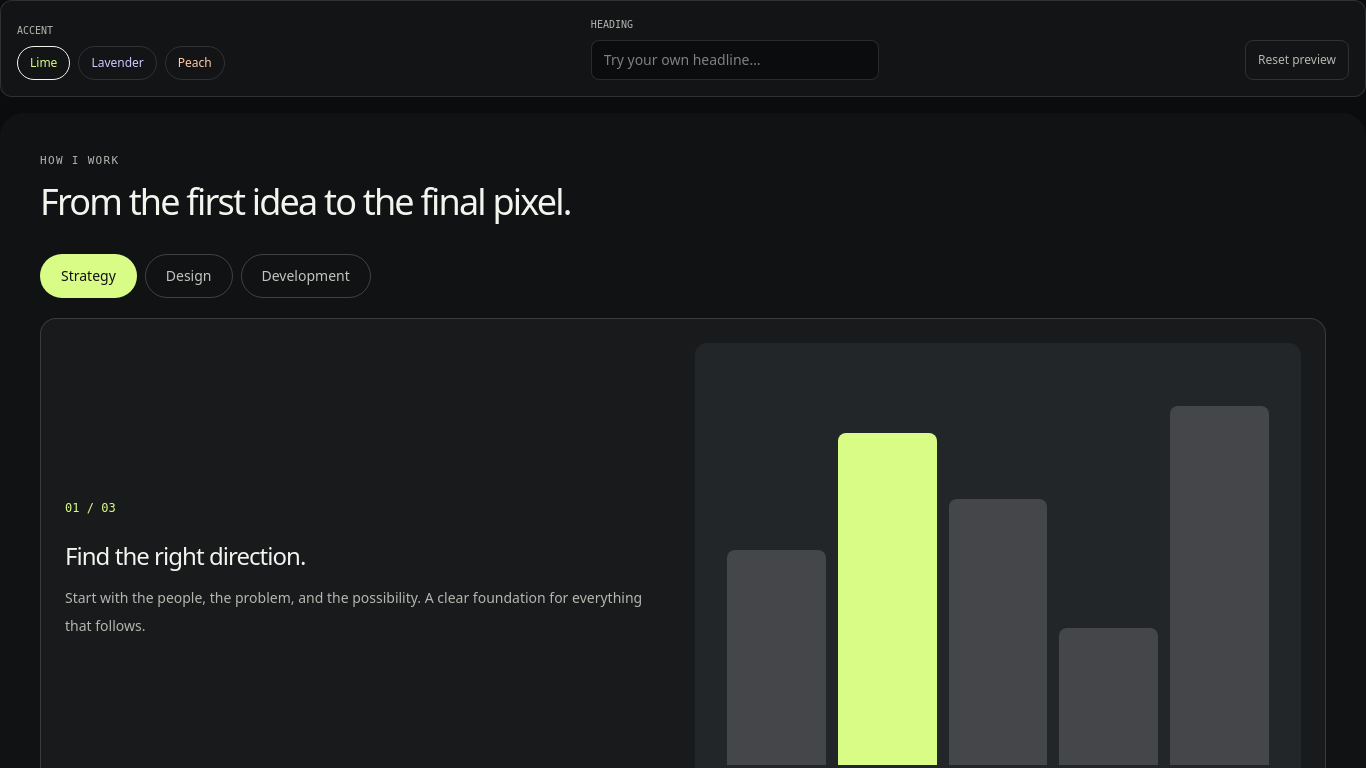
live customization › changes the heading and restores the original block on reset
In the field named "Preview heading": (735, 60) [591,40,879,80], type "My process"
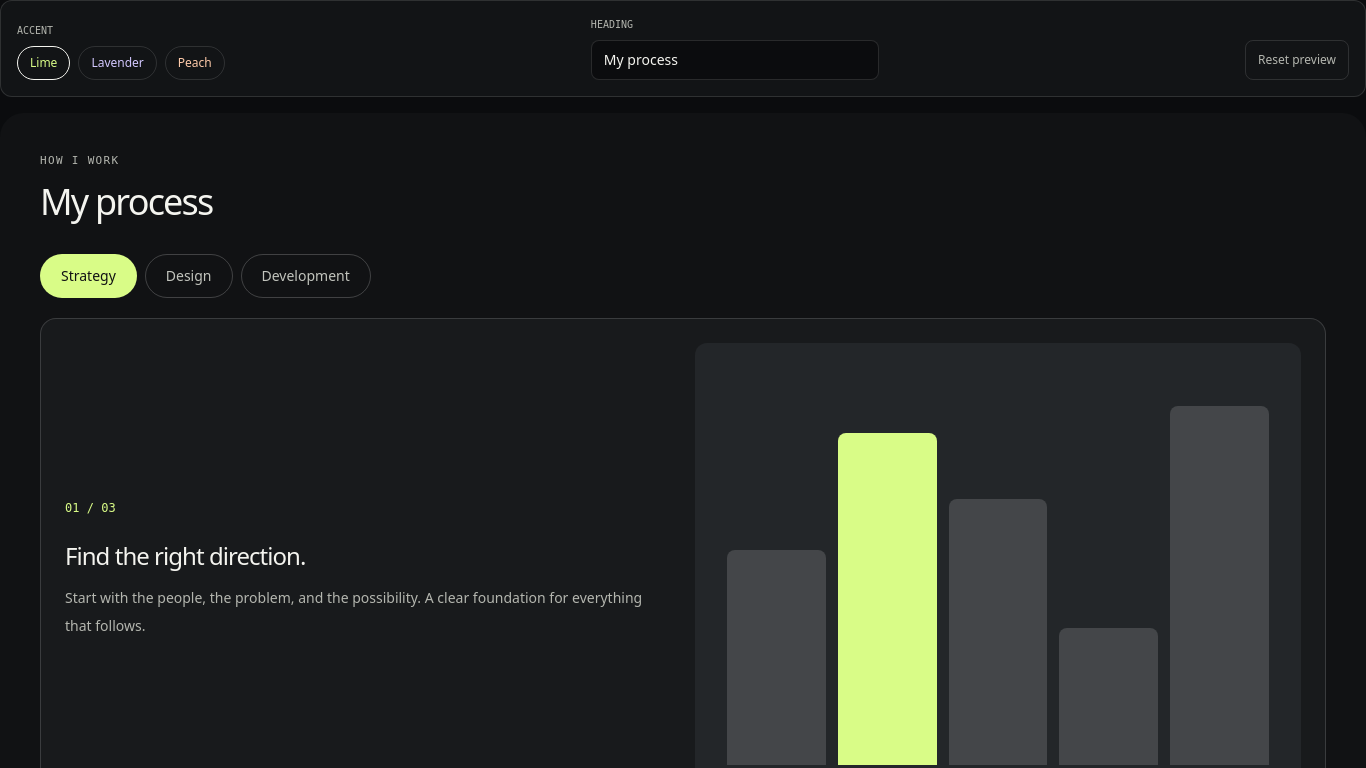
Now the heading "My process" is shown, box [40,176,212,226]
Click the tab "Development": click(306, 276) [240,254,371,298]
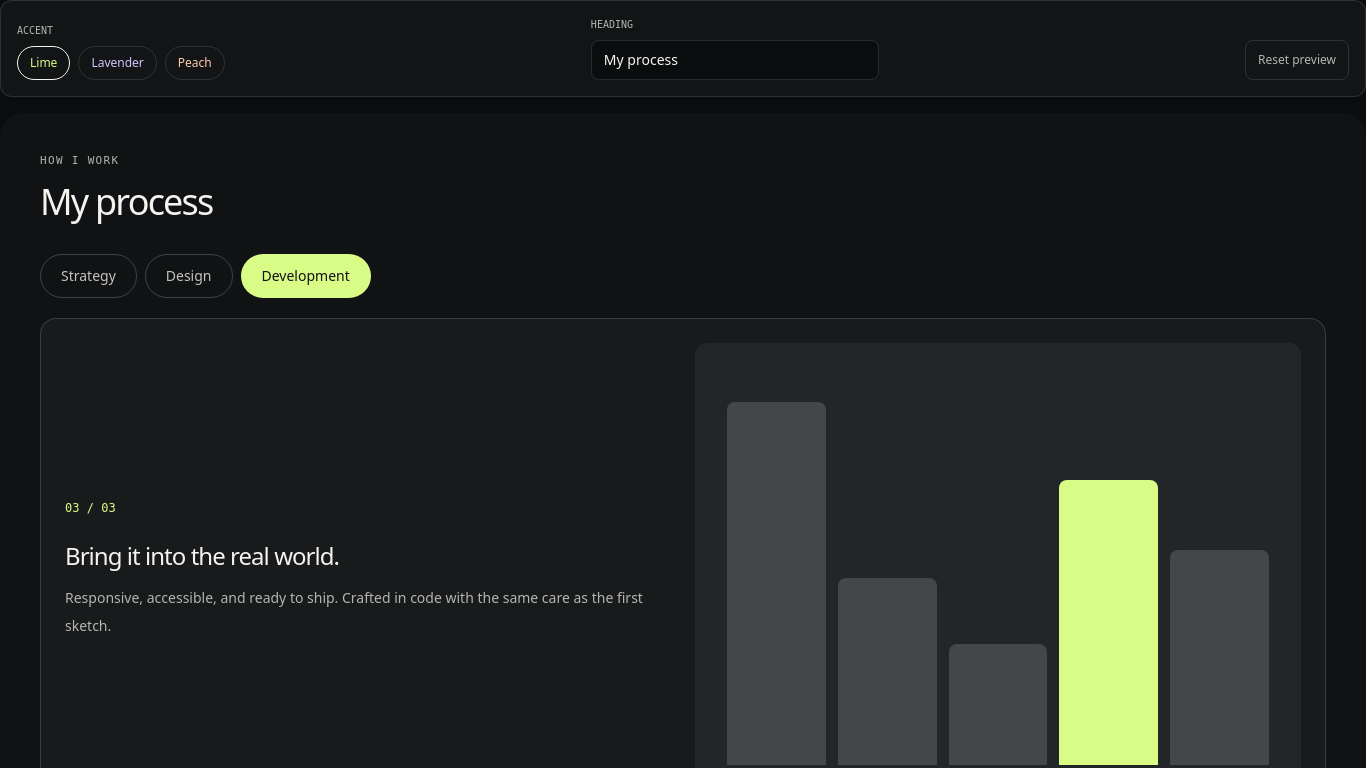
Click the button "Reset preview": click(1297, 60) [1245,40,1349,80]
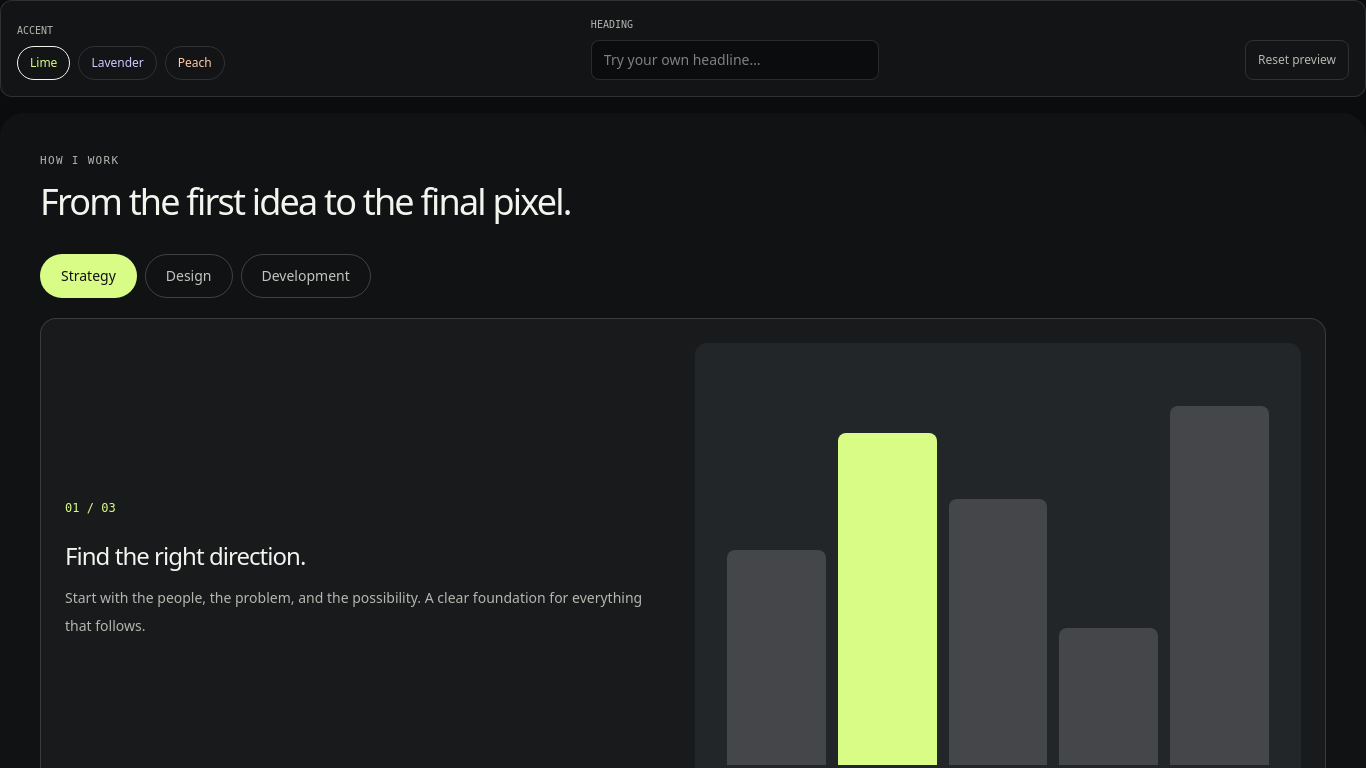
Now the heading "From the first idea to the final pixel." is shown, box [40,182,616,222]
